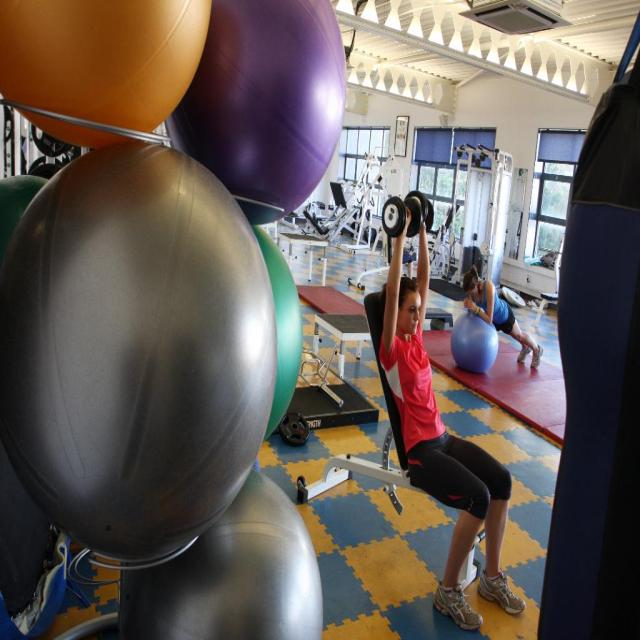Ball: (0, 0, 348, 640), (450, 312, 498, 374)
